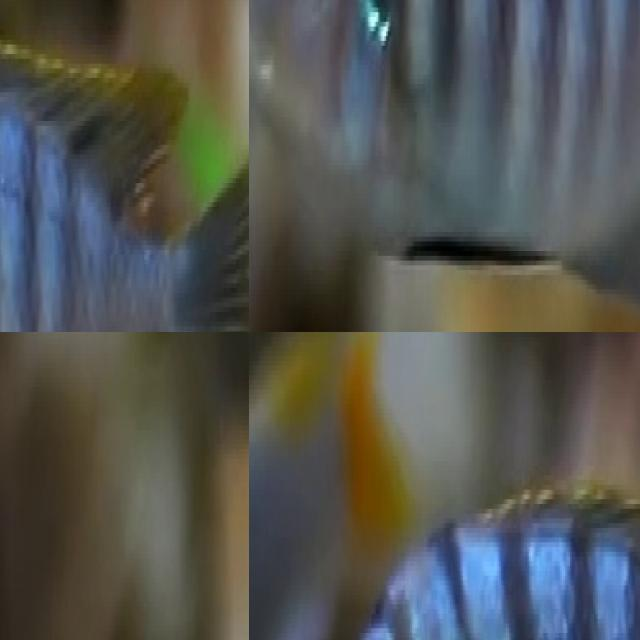fish: (249, 0, 640, 327), (287, 389, 640, 640), (0, 0, 249, 332)
